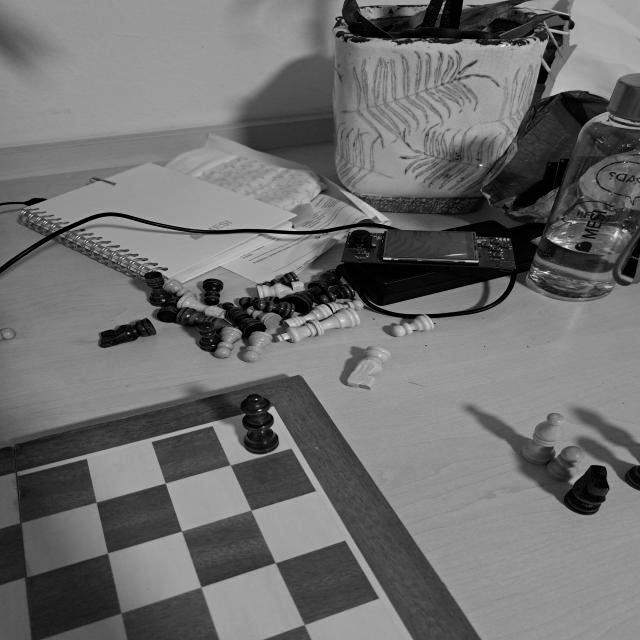chess-table-corners: (268, 402, 280, 410)
